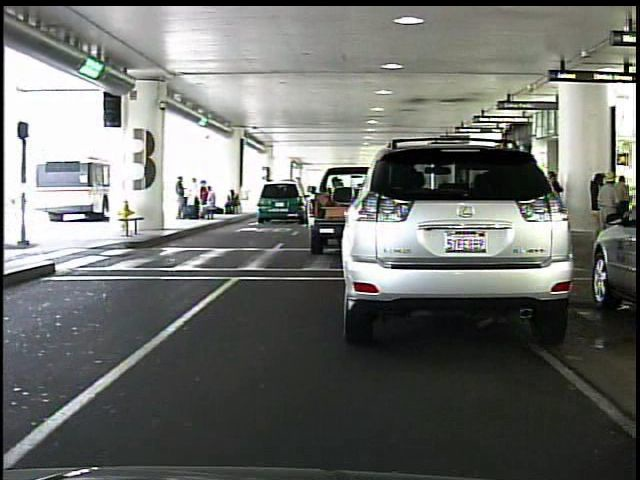person: (595, 169, 625, 253), (587, 164, 608, 243), (612, 173, 634, 234), (169, 171, 189, 224)
